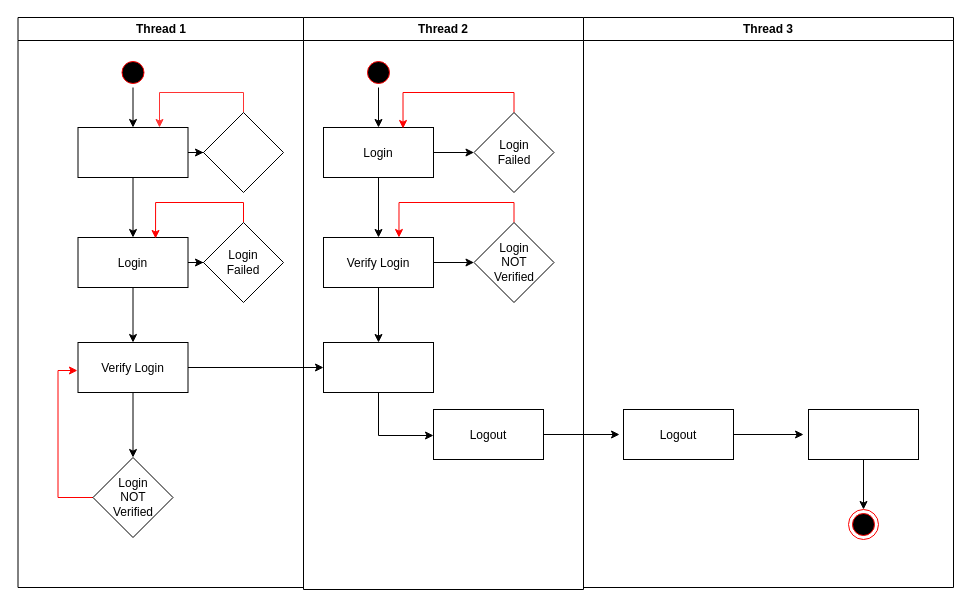
This 971x607 diagram has some shape labels left out. The centre of each missing label's shape, as x and y in pixels:
"Confirm Logout" belongs at point (863, 434).
"Menu" belongs at point (378, 367).
"Signup" belongs at point (132, 152).
"Signup Failed" belongs at point (243, 152).
